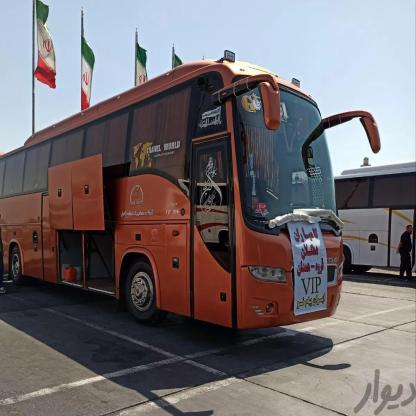Bus: (0, 60, 373, 366), (341, 154, 416, 281)
